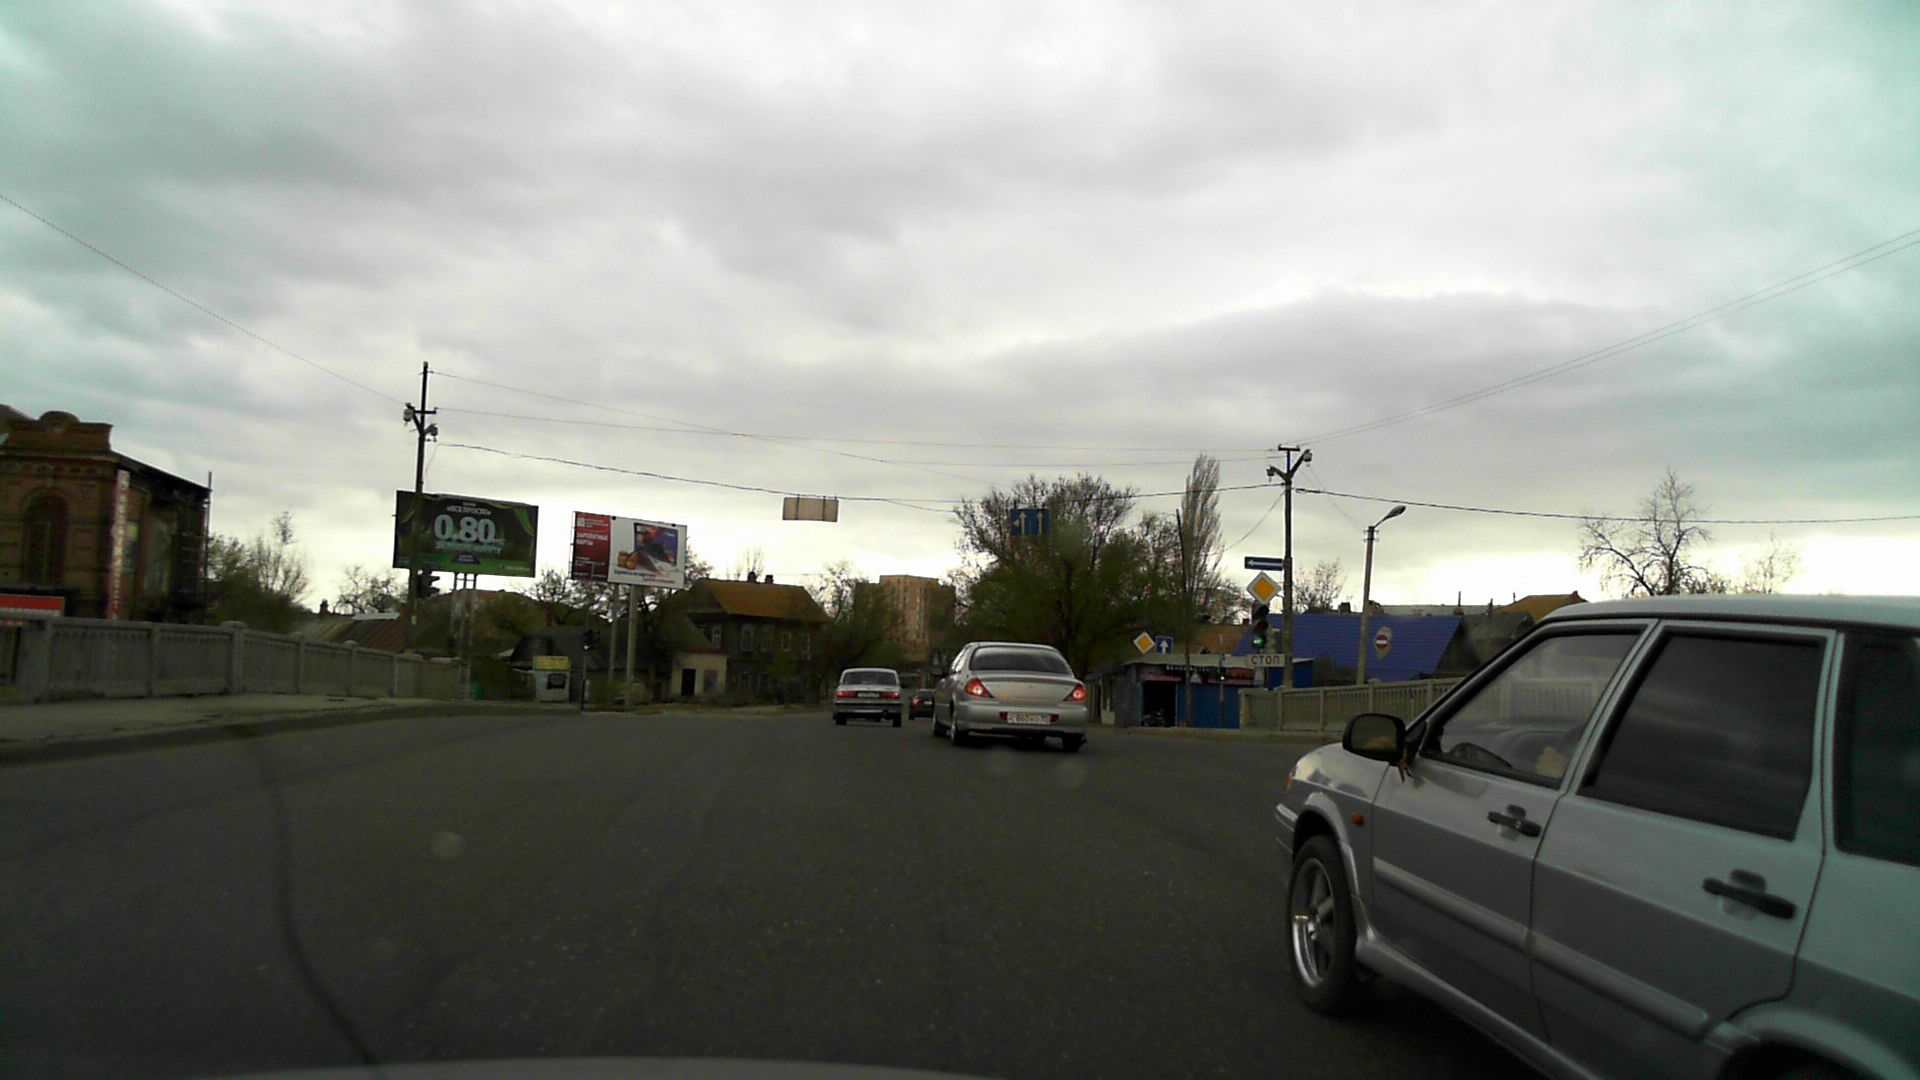One-Way Traffic: (1244, 556, 1283, 571)
